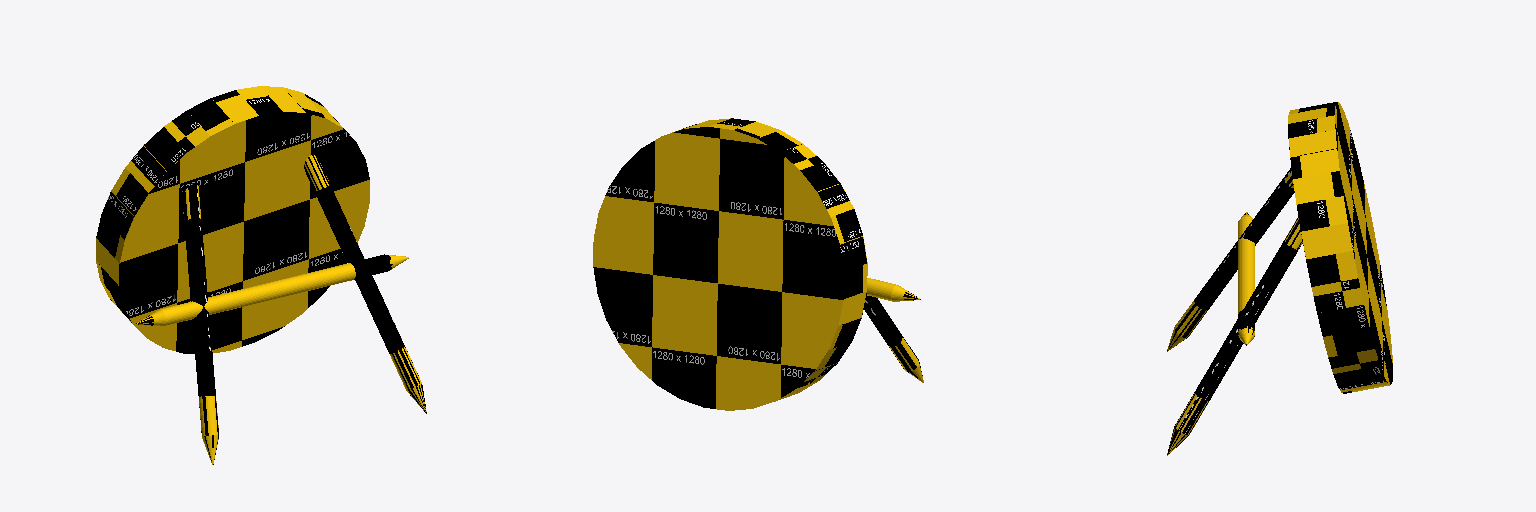
3 views of the same model, side by side, from view 1: azimuth 30°, elevation 25°; view 2: azimuth 150°, elevation 25°; view 3: azimuth 270°, elevation 25° (orthographic).
Parts seen in each view (by area): view 1: Cylinder, Cylinder.001_Cylinder.003; view 2: Cylinder, Cylinder.001_Cylinder.003; view 3: Cylinder, Cylinder.001_Cylinder.003.
Boxes of the visible parts, box(x1,y1,x2,y2) form: Cylinder: box(96, 86, 369, 353); Cylinder.001_Cylinder.003: box(136, 155, 426, 464); Cylinder: box(593, 118, 867, 410); Cylinder.001_Cylinder.003: box(864, 278, 923, 382); Cylinder: box(1288, 102, 1392, 393); Cylinder.001_Cylinder.003: box(1167, 168, 1302, 455).
Size of the model in its own units: 2.18 by 2.2 by 1.57.
Materials: 2 (1 with a texture image).